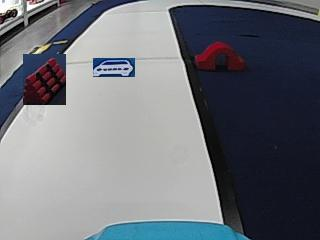bridge: (196, 41, 243, 69)
